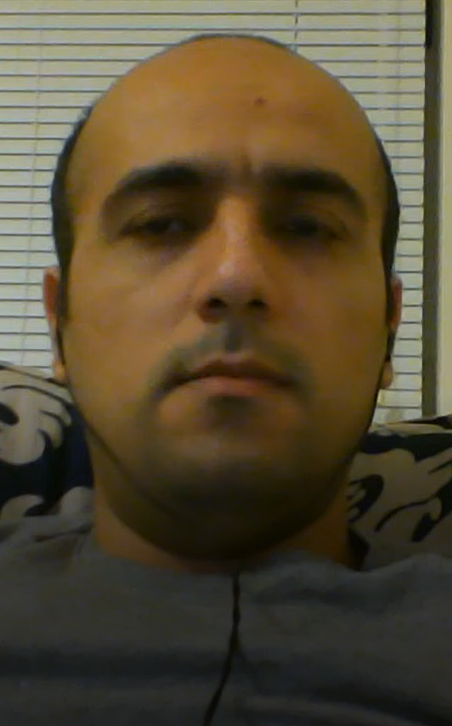Half Asleep: (99, 156, 368, 273)
